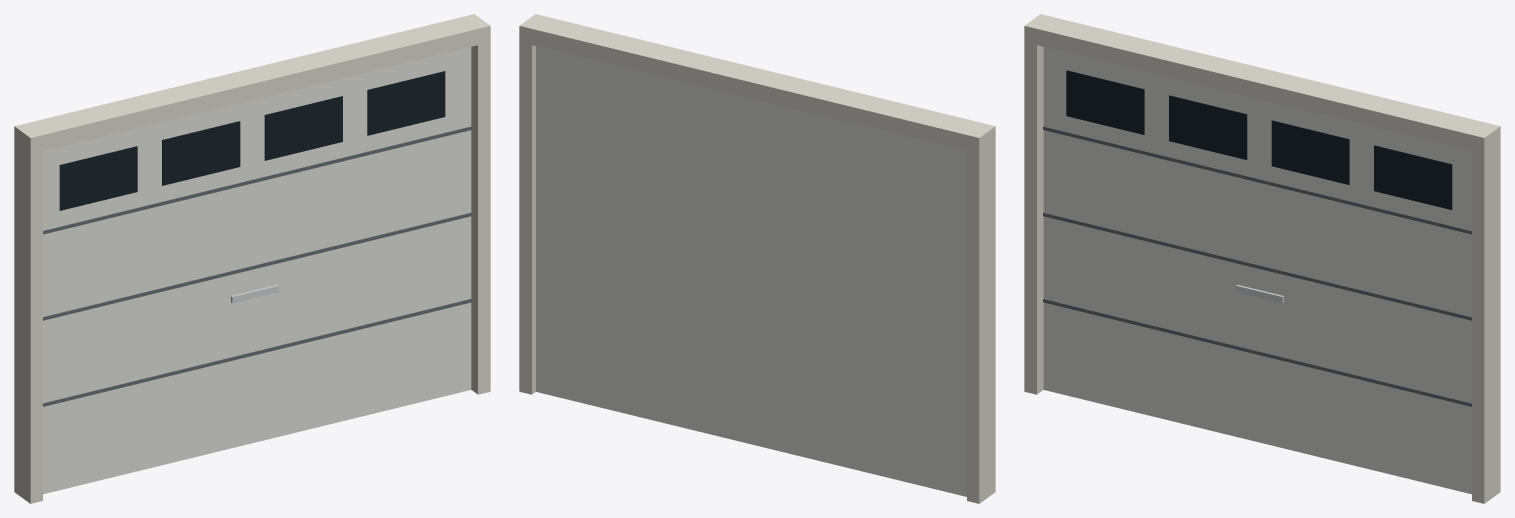
File: garage_door.glb
3 views of the same model, side by side, from view 1: azimuth 30°, elevation 25°; view 2: azimuth 150°, elevation 25°; view 3: azimuth 330°, elevation 25° (orthographic).
Parts seen in each view (by area): view 1: garage_door; view 2: garage_door; view 3: garage_door.
Part boxes in pixels (<box>): garage_door: <box>14,14,490,503</box>; garage_door: <box>519,14,995,503</box>; garage_door: <box>1024,14,1500,503</box>.
Bounding box in the file's own units: 2.96 × 2.25 × 0.18.
1 material, 1 textured.
